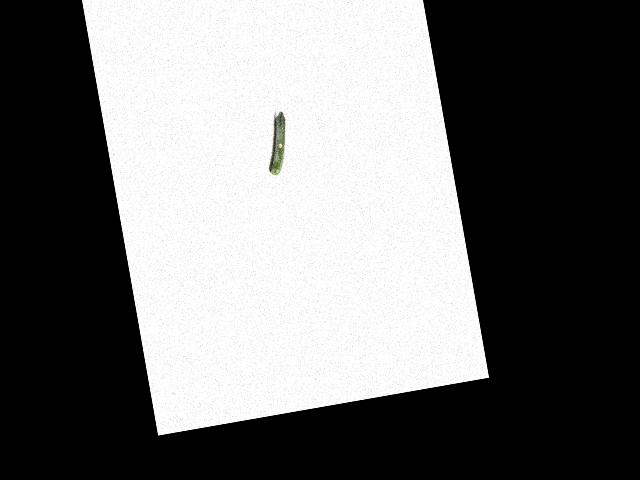cucumber: (260, 111, 294, 176)
